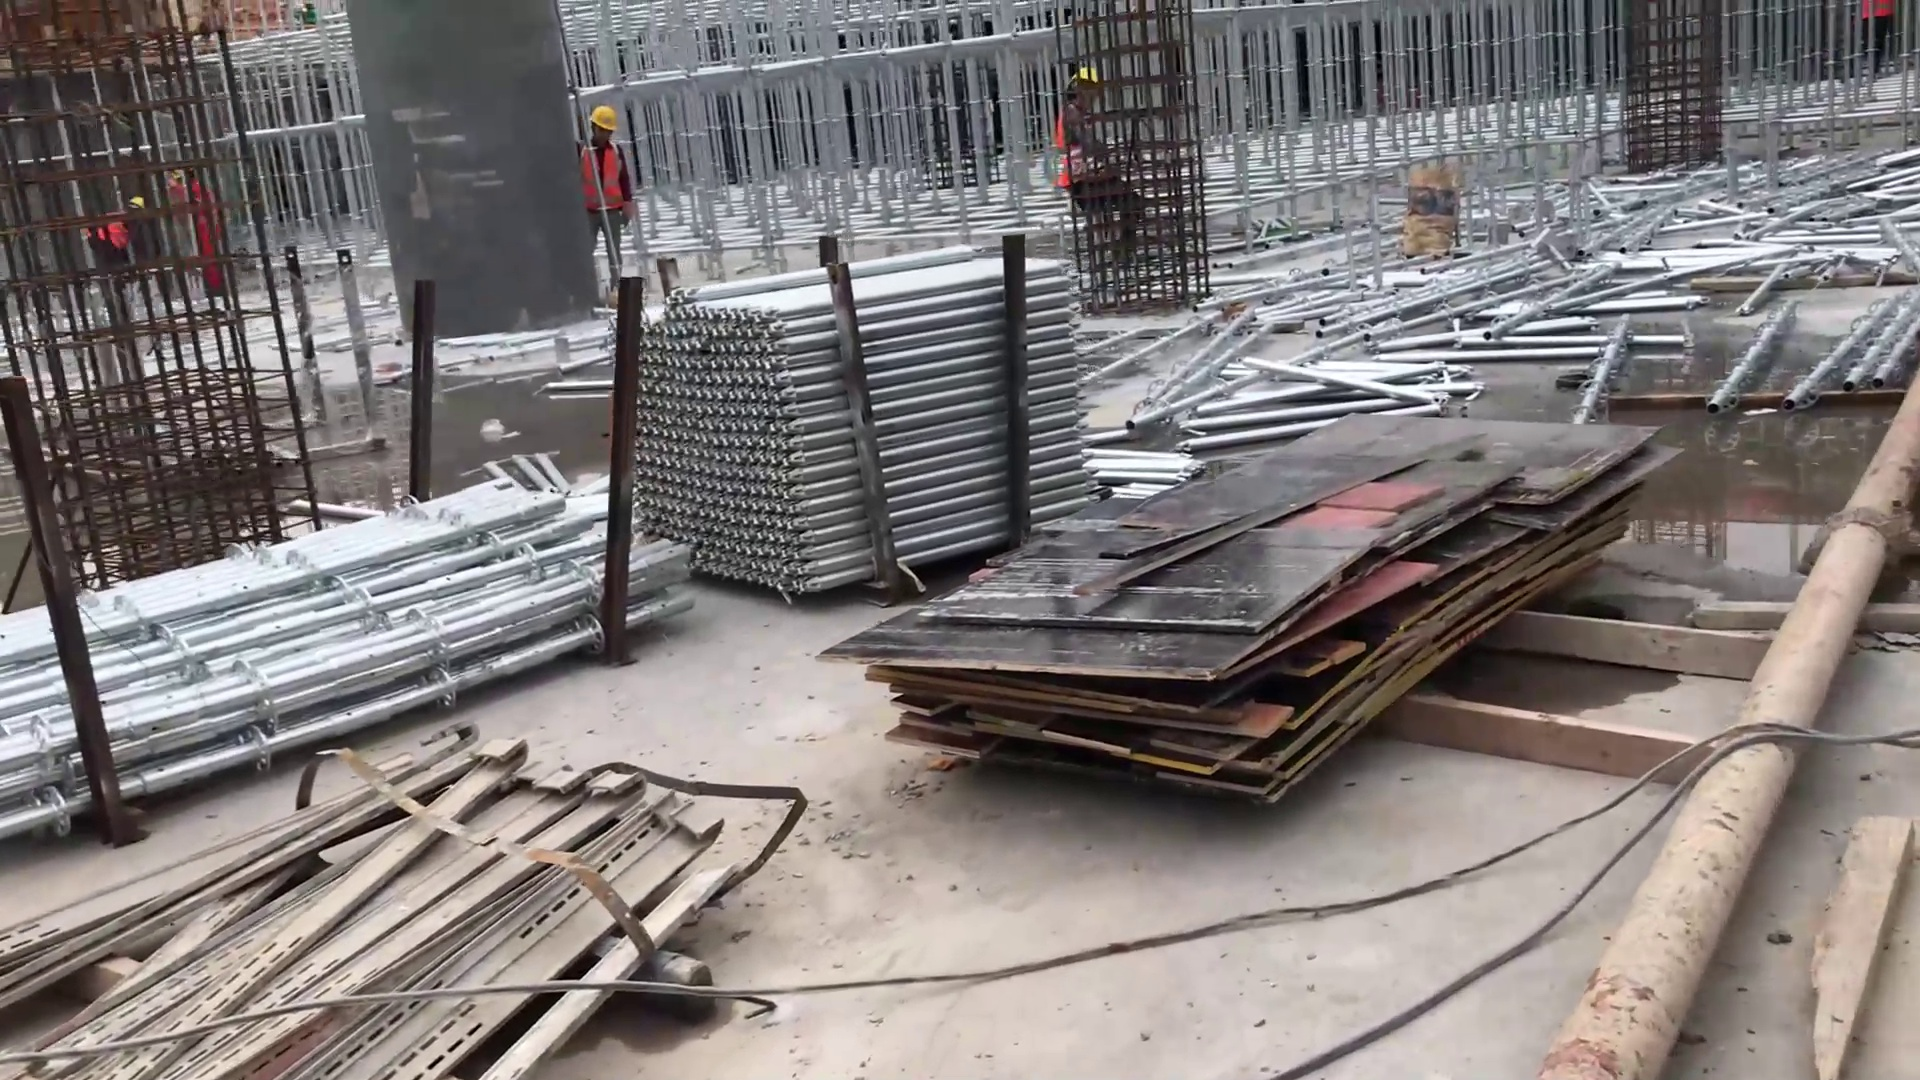helmet: (589, 106, 618, 133)
person: (1052, 68, 1140, 281), (575, 104, 641, 290), (164, 165, 237, 311), (84, 187, 156, 260)
vest: (582, 137, 626, 213), (92, 216, 140, 267)
